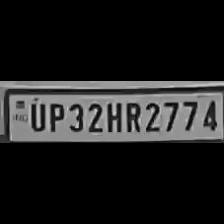2: (142, 99, 160, 134), (85, 99, 103, 133)
3: (66, 100, 84, 134)
4: (199, 97, 219, 130)
7: (160, 98, 178, 132), (178, 98, 196, 132)
H: (104, 99, 122, 133)
P: (46, 100, 64, 134)
R: (123, 99, 141, 133)
U: (26, 100, 46, 132)
